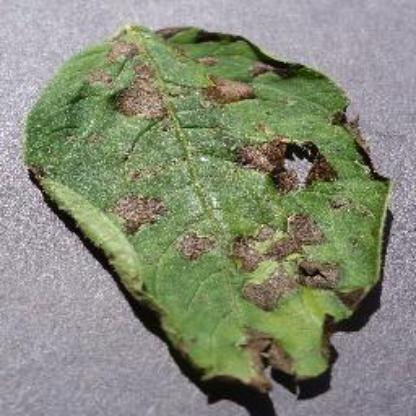Early-Blight: (21, 21, 401, 415)
